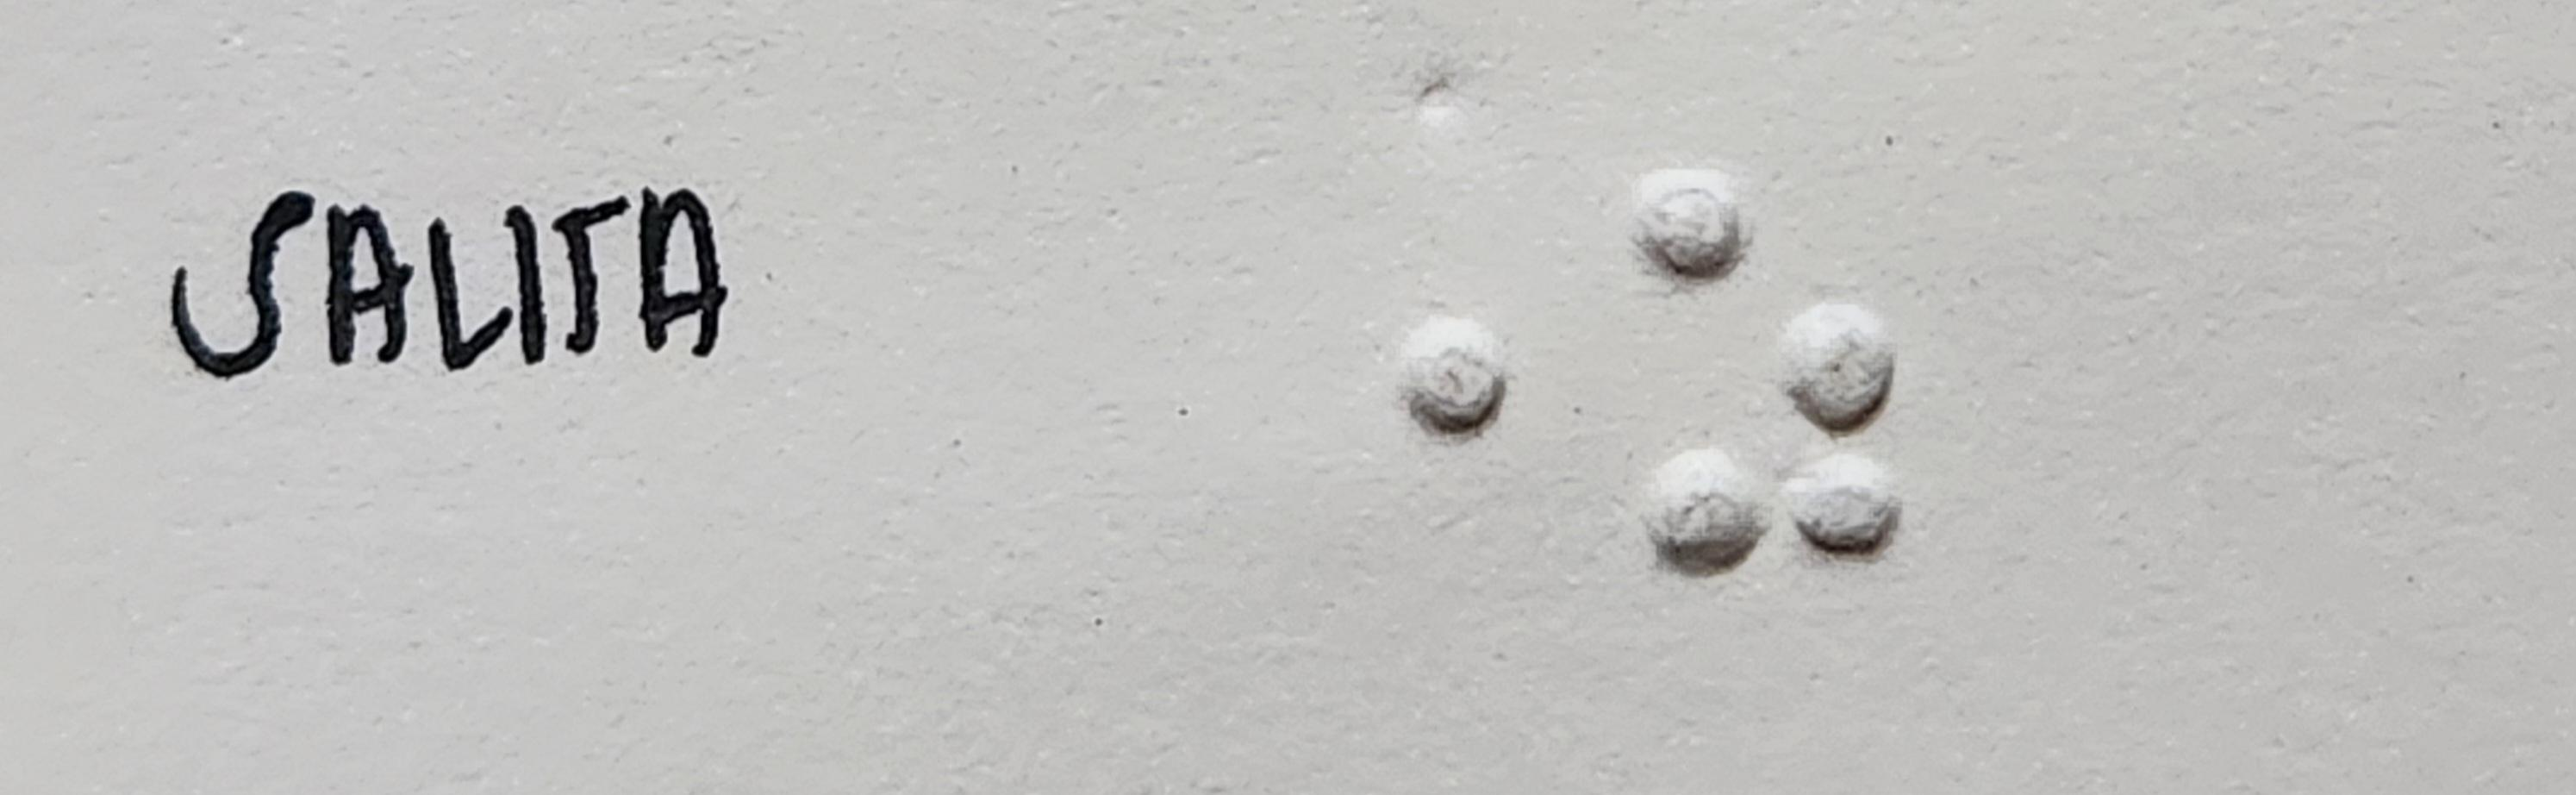dot_5: (1244, 163, 1516, 590)
two_cell_alphabet_salita: (1630, 156, 1902, 581)
